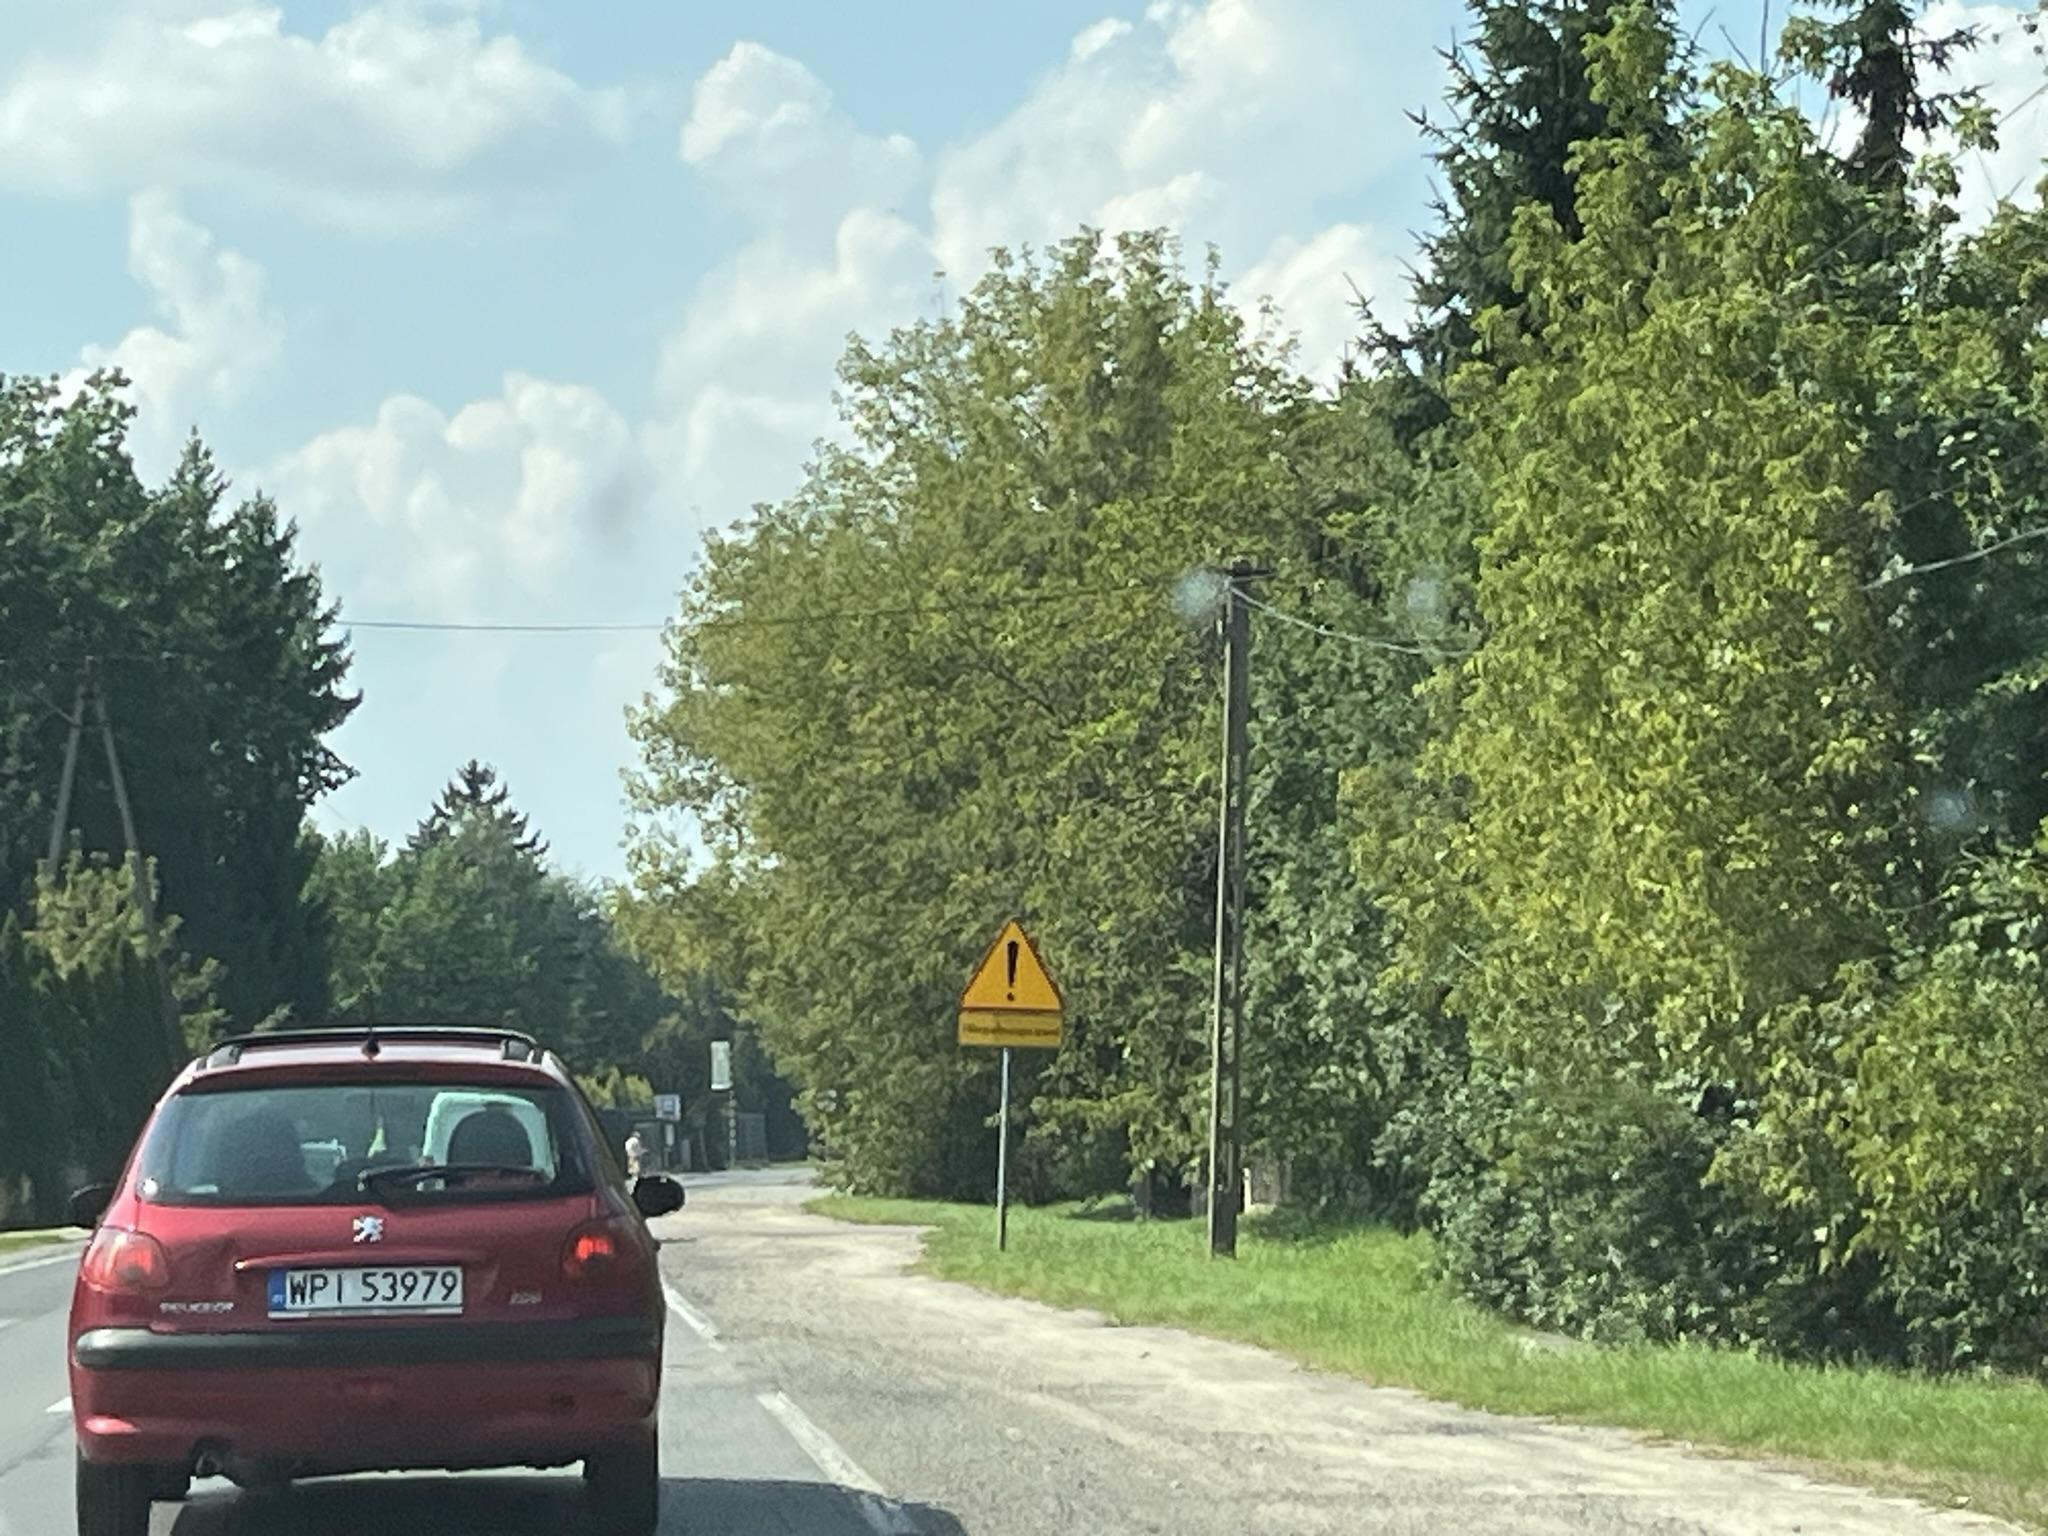warning: (959, 916, 1066, 1012)
